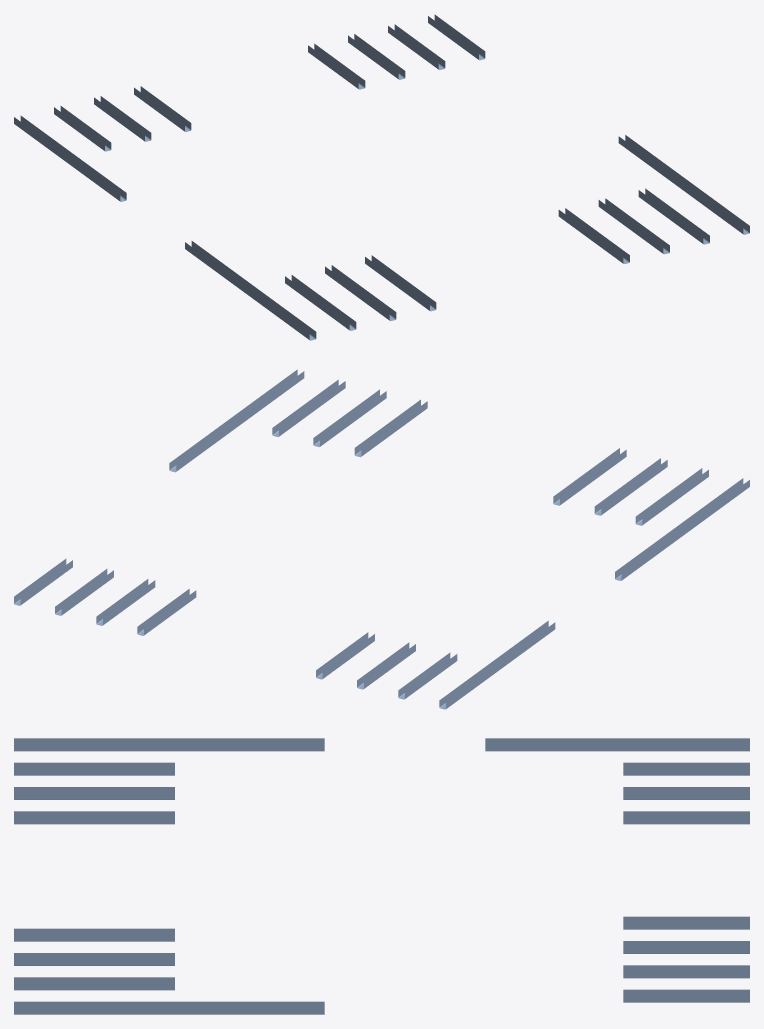
File: Floor02_beams.fbx
The picture shows the model from 3 angles, top to bottom: view 1: azimuth 30°, elevation 25°; view 2: azimuth 150°, elevation 25°; view 3: azimuth 270°, elevation 25°; orthographic projection. The views are drawn at different scales.
Visible parts, largest first — view 1: pCube704; view 2: pCube704; view 3: pCube704.
Boxes of the visible parts, left/top/right/bottom form: pCube704: left=14, top=14, right=749, bottom=340; pCube704: left=14, top=369, right=749, bottom=709; pCube704: left=14, top=738, right=749, bottom=1014.
Bounding box in the file's own units: 2750 × 45.52 × 3200.
